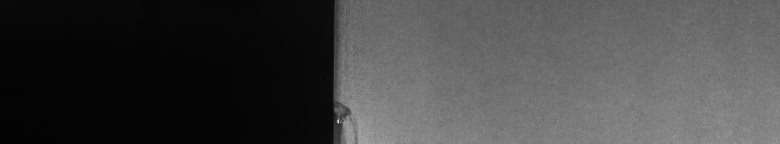hb: (344, 100, 360, 136)
